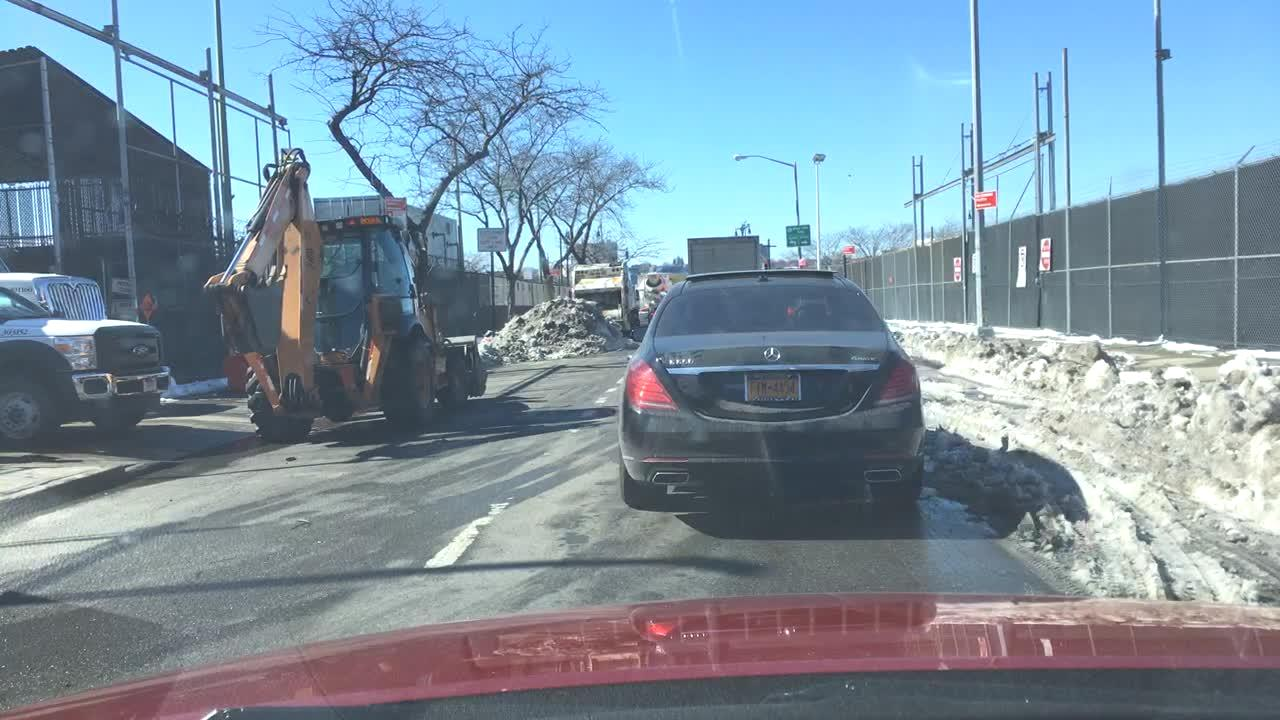Mercedes: (759, 344, 785, 366)
